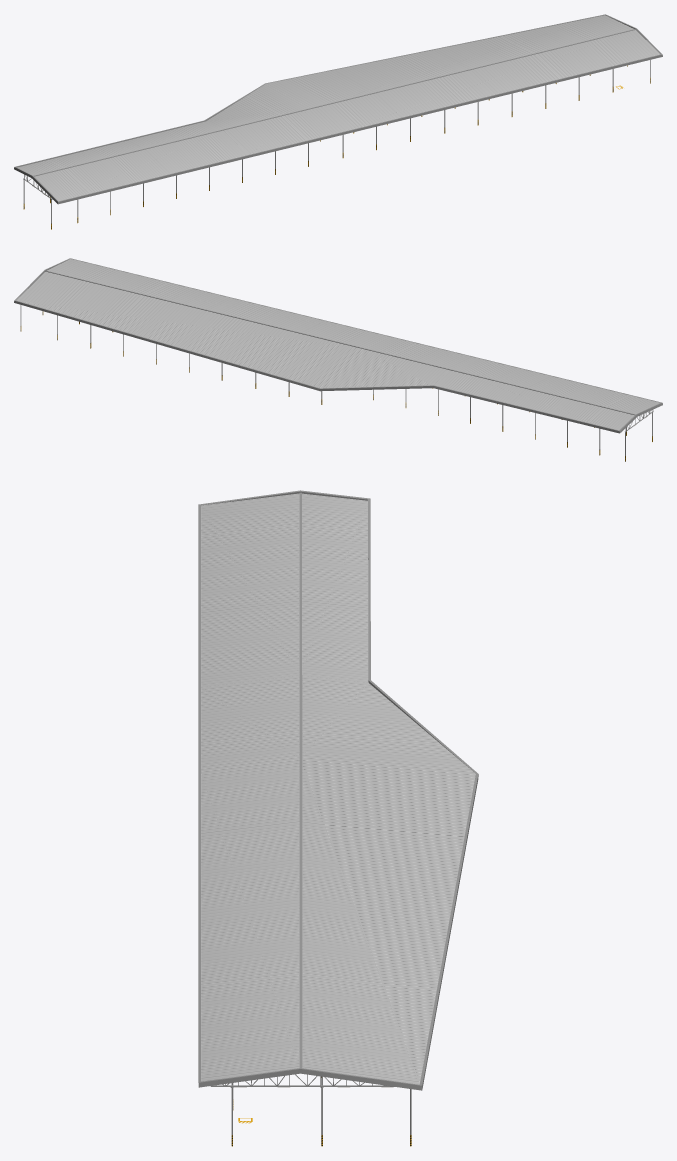
The model's file is CK-3haocangku01-JZ.FBX.
3 views of the same model, one above another, from view 1: azimuth 30°, elevation 25°; view 2: azimuth 150°, elevation 25°; view 3: azimuth 270°, elevation 25° (orthographic). The views are drawn at different scales.
Parts seen in each view (by area): view 1: ding, main; view 2: ding, main; view 3: ding.
Boxes of the visible parts, <box> form: ding: <box>14,14,662,204</box>; main: <box>23,60,650,229</box>; ding: <box>14,258,662,433</box>; main: <box>20,305,652,461</box>; ding: <box>198,490,478,1090</box>.
Size of the model in its own units: 108 by 7.08 by 22.18.
4 materials, 3 textured.
